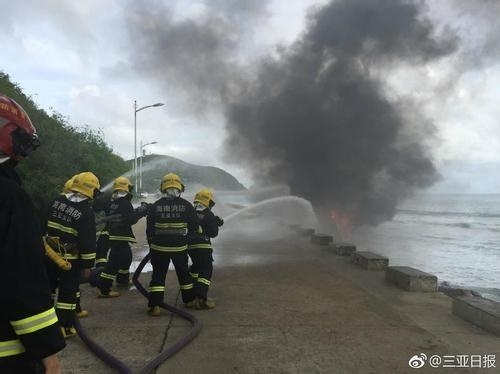fire: (331, 209, 355, 238)
